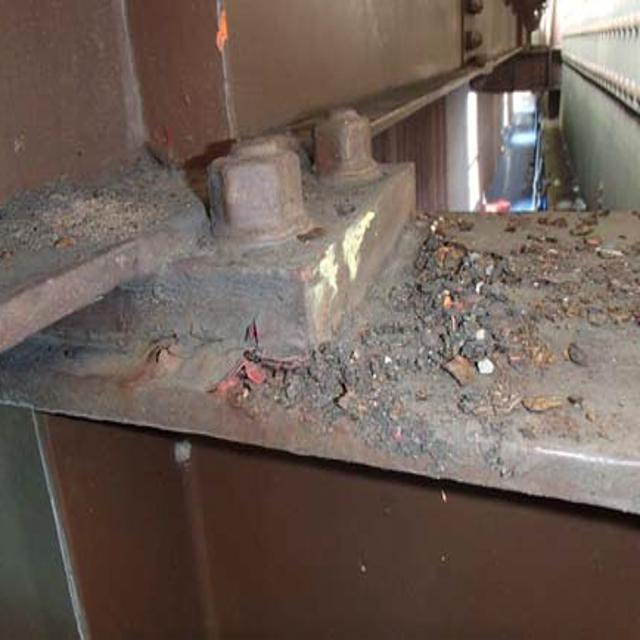corrosion: (56, 107, 356, 424)
